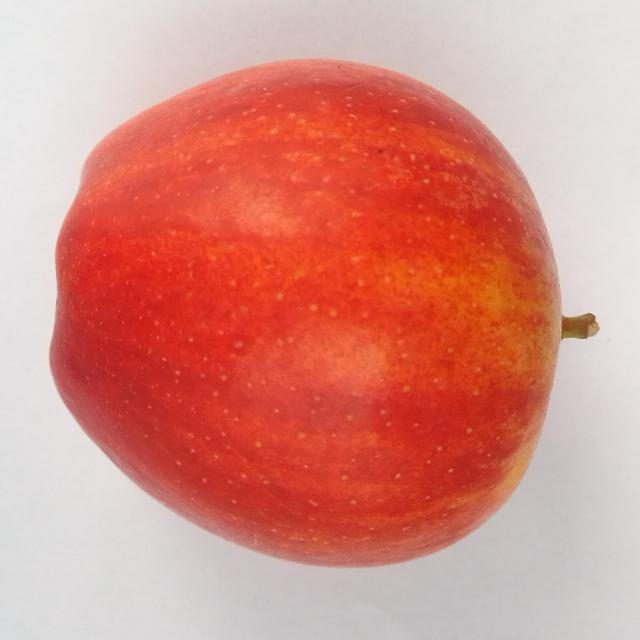Fresh Apple: (40, 52, 563, 575)
